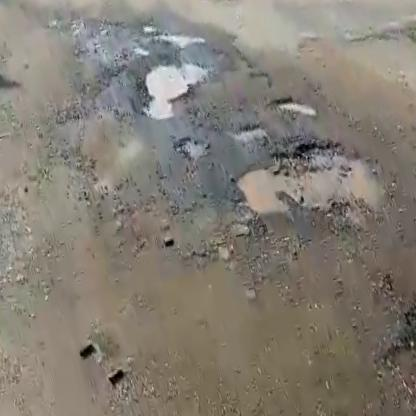pothole: (225, 122, 394, 239), (135, 48, 219, 122), (270, 90, 316, 127), (173, 129, 217, 165), (231, 120, 269, 144)
